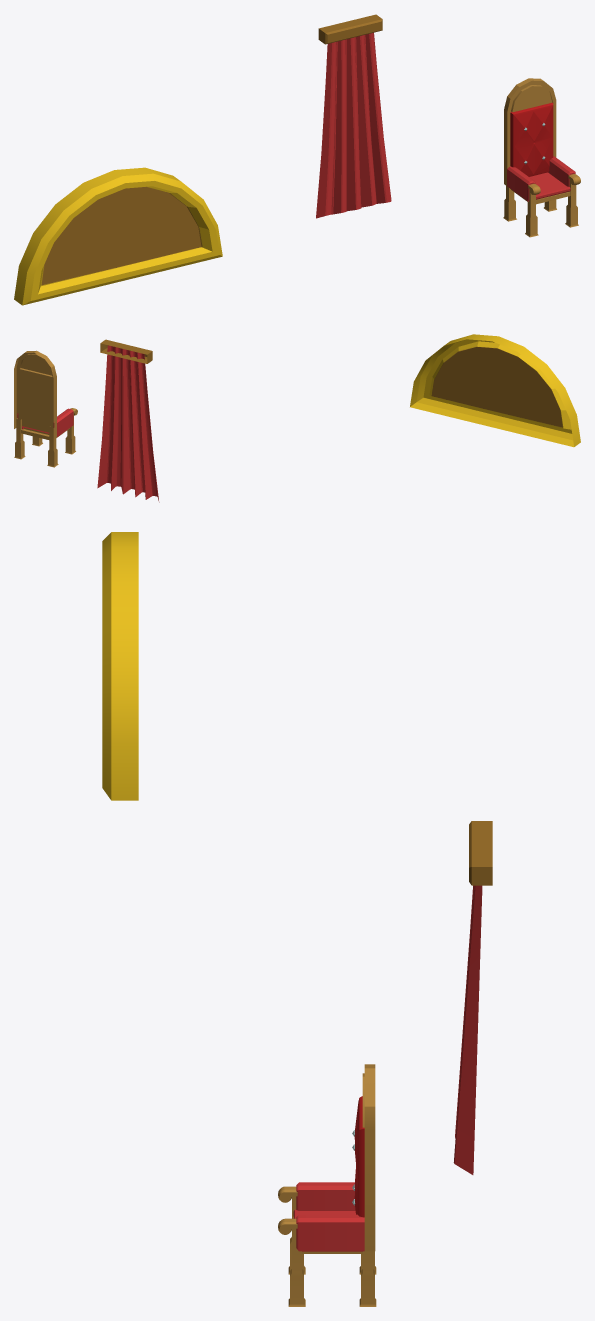
The model's file is Cathedral_ThroneAssets.fbx.
The picture shows the model from 3 angles, top to bottom: view 1: azimuth 30°, elevation 25°; view 2: azimuth 150°, elevation 25°; view 3: azimuth 270°, elevation 25°; orthographic projection. The views are drawn at different scales.
Parts seen in each view (by area): view 1: pCylinder45, polySurface20, polySurface19; view 2: pCylinder45, polySurface20, polySurface19; view 3: polySurface19, pCylinder45, polySurface20.
Part boxes in pixels (x1,y1,x2,y2): pCylinder45: (14, 167, 222, 305); polySurface20: (316, 14, 391, 218); polySurface19: (503, 78, 580, 237); pCylinder45: (410, 334, 580, 447); polySurface20: (97, 339, 159, 502); polySurface19: (14, 350, 77, 467); polySurface19: (278, 1064, 376, 1306); pCylinder45: (102, 532, 138, 800); polySurface20: (453, 821, 492, 1174).
Size of the model in its own units: 64.38 by 21.49 by 21.72.
